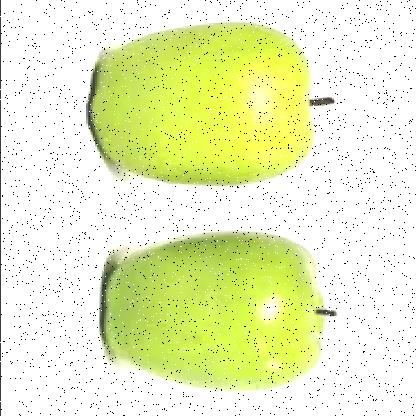apple: (96, 24, 322, 180), (105, 236, 322, 384)
